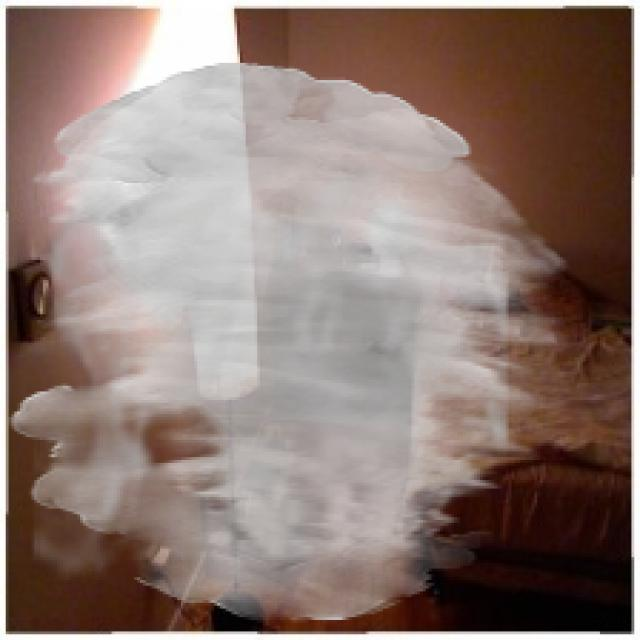Smoke: (8, 63, 574, 623)
